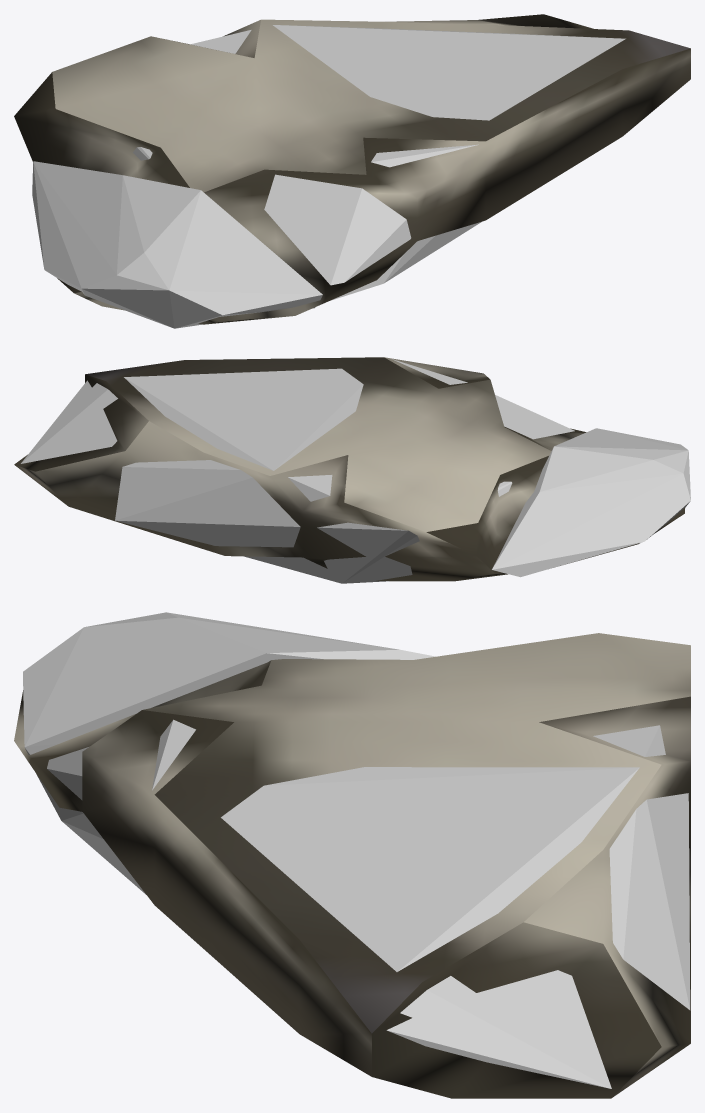
The model's file is SM_RandomBit_02.fbx.
The picture shows the model from 3 angles, top to bottom: view 1: azimuth 30°, elevation 25°; view 2: azimuth 150°, elevation 25°; view 3: azimuth 270°, elevation 25°; orthographic projection. The views are drawn at different scales.
Visible parts, largest first — view 1: SM_RandomBit_02, SM_RandomBit_02_ConvexHulls; view 2: SM_RandomBit_02_ConvexHulls, SM_RandomBit_02; view 3: SM_RandomBit_02, SM_RandomBit_02_ConvexHulls.
Part boxes in pixels (x1=…): SM_RandomBit_02: x1=14, y1=14, x2=690, y2=324; SM_RandomBit_02_ConvexHulls: x1=32, y1=25, x2=625, y2=328; SM_RandomBit_02_ConvexHulls: x1=21, y1=359, x2=690, y2=583; SM_RandomBit_02: x1=14, y1=357, x2=685, y2=581; SM_RandomBit_02: x1=14, y1=633, x2=690, y2=1098; SM_RandomBit_02_ConvexHulls: x1=23, y1=612, x2=690, y2=1088.
Size of the model in its own units: 8.22 by 5.14 by 1.3.
2 materials, 1 textured.
